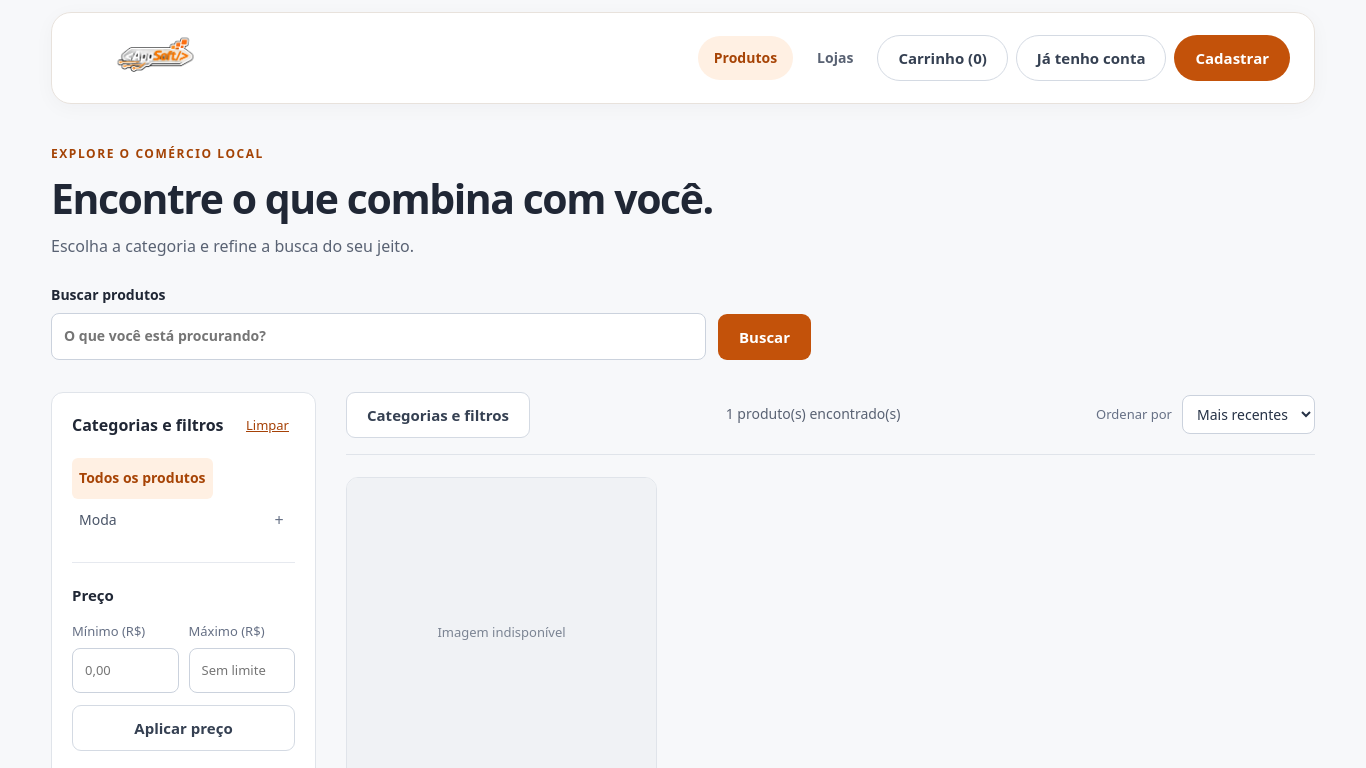
painel móvel aplica filtros e retorna aos resultados
The image size is (1366, 768).
Click the button "Categorias e filtros".
click(438, 415)  # box x1=346 y1=392 x2=530 y2=438
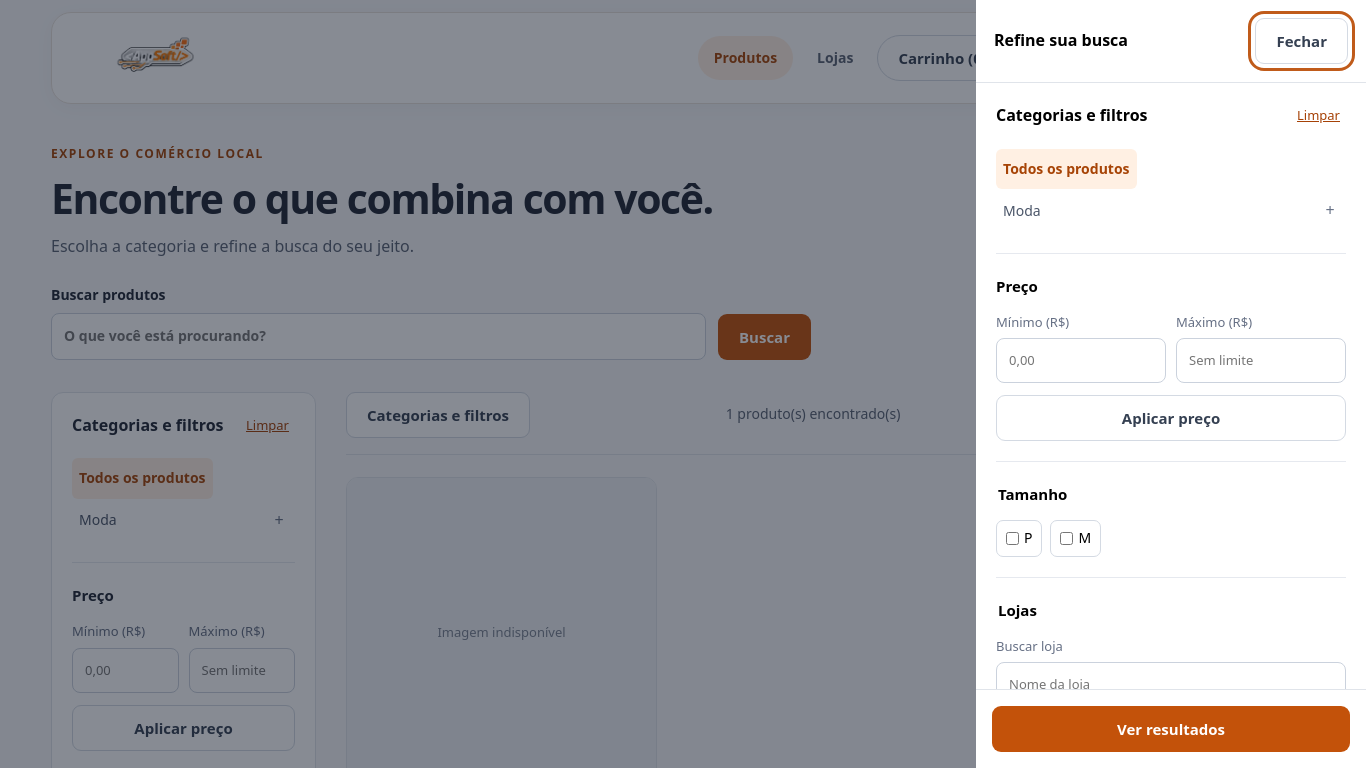
Click the checkbox labelled "M".
click(1067, 538)  # box x1=1060 y1=532 x2=1074 y2=545
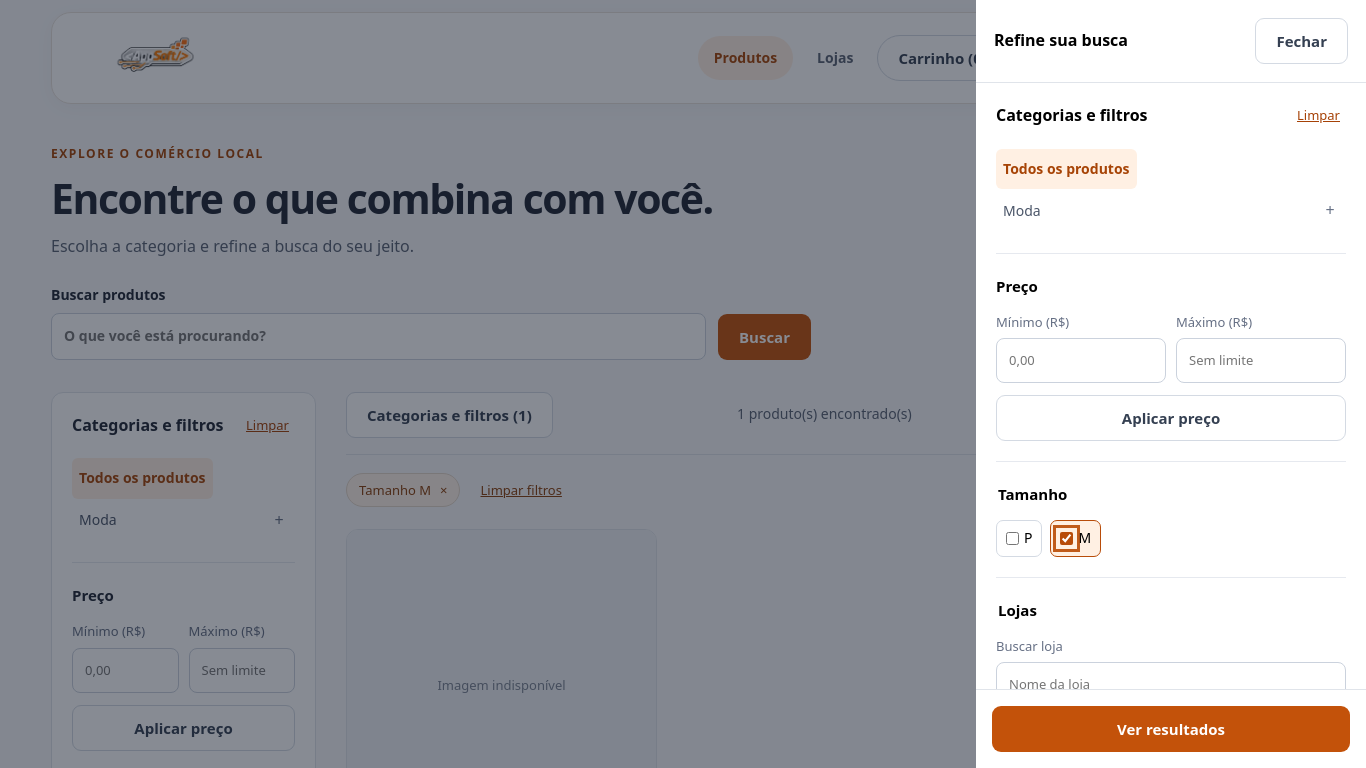
Click the button "Ver resultados".
click(1171, 729)  # box x1=992 y1=706 x2=1350 y2=752
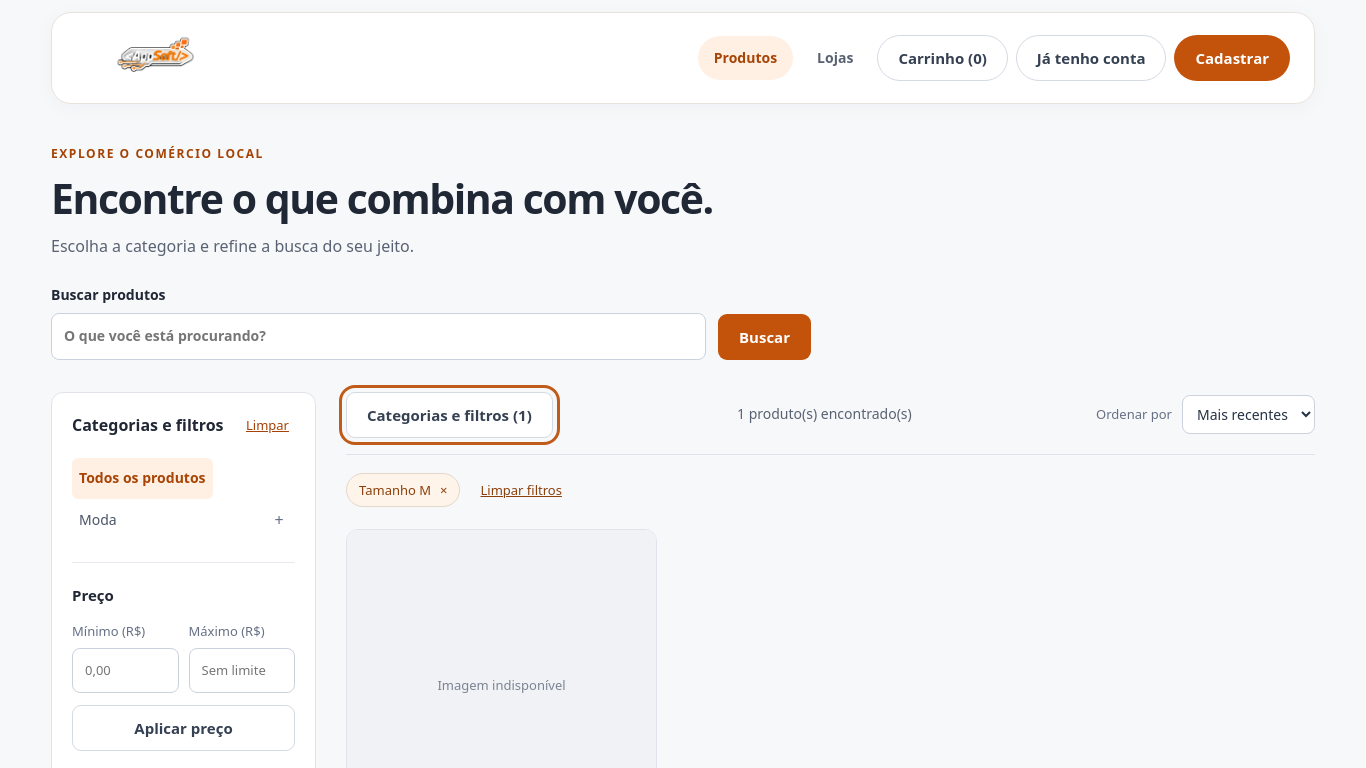
Result: the heading "Refine sua busca" is gone
